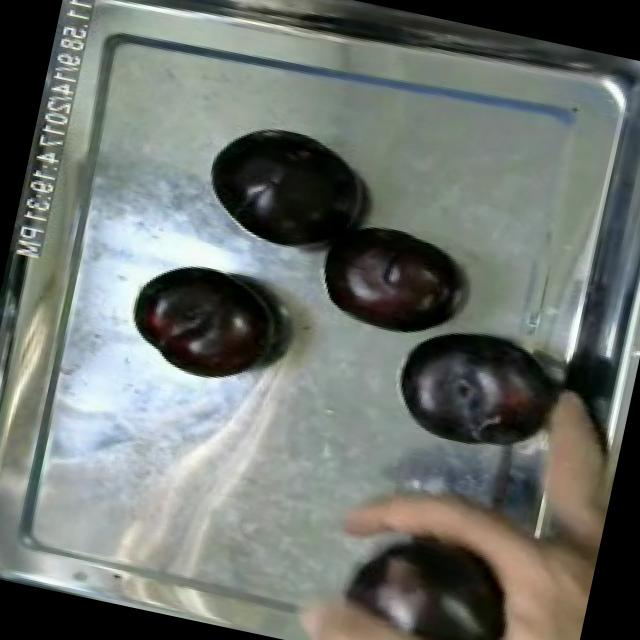Fruit: (377, 306, 574, 468), (187, 109, 376, 267), (112, 248, 286, 396), (303, 209, 467, 348), (335, 524, 530, 640)
